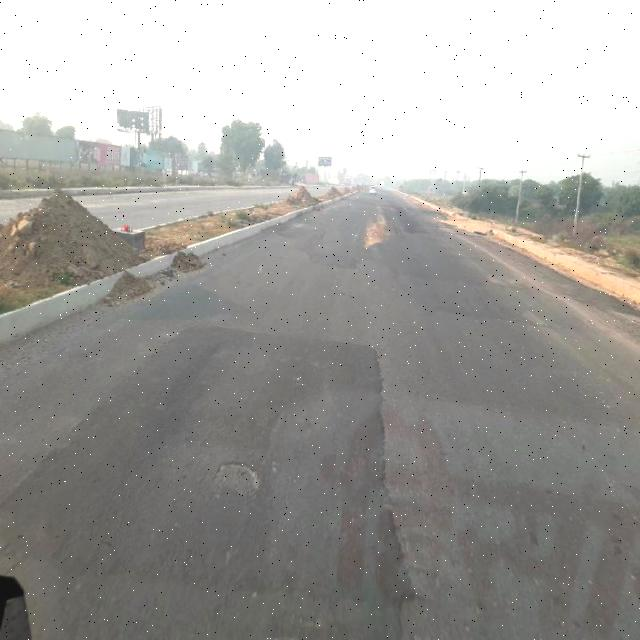D40: (212, 454, 266, 497)
